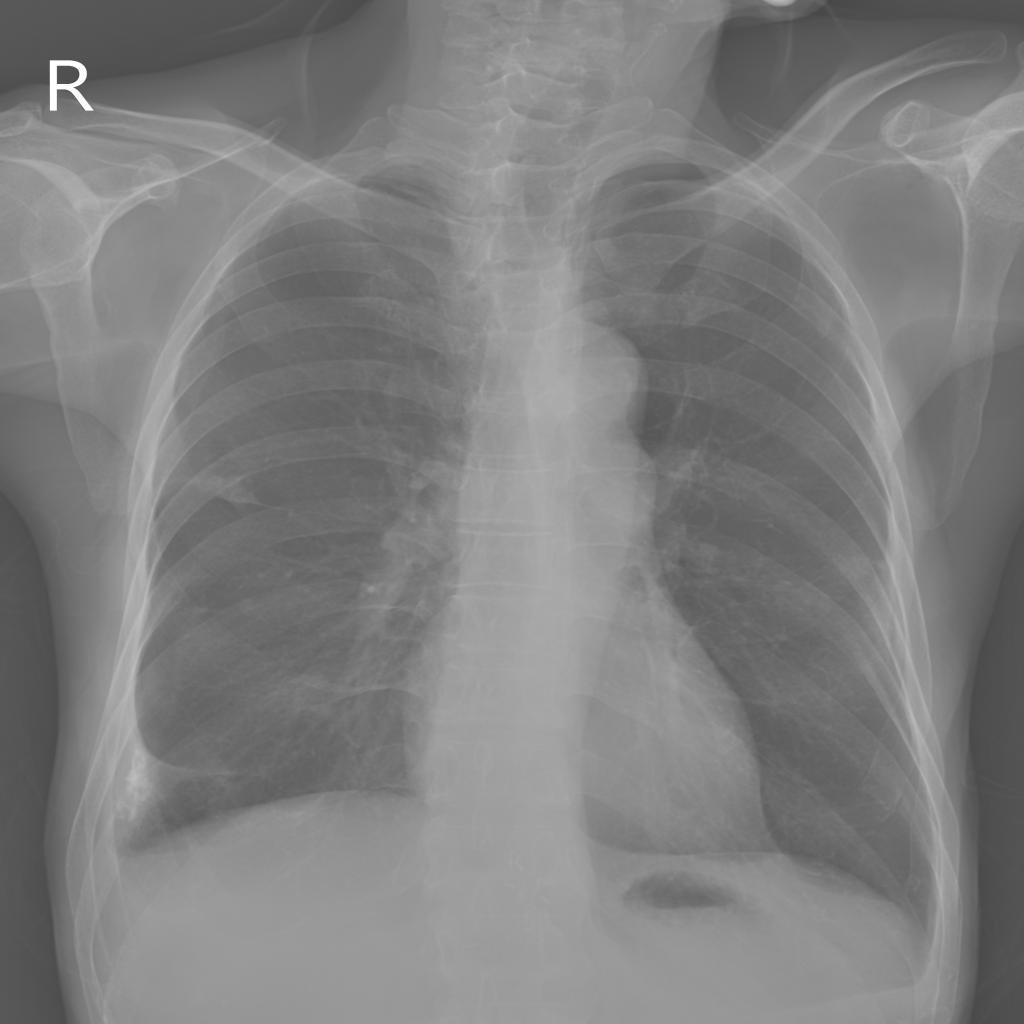Nodule: (831, 552, 879, 582), (236, 595, 264, 618), (877, 557, 889, 572)
